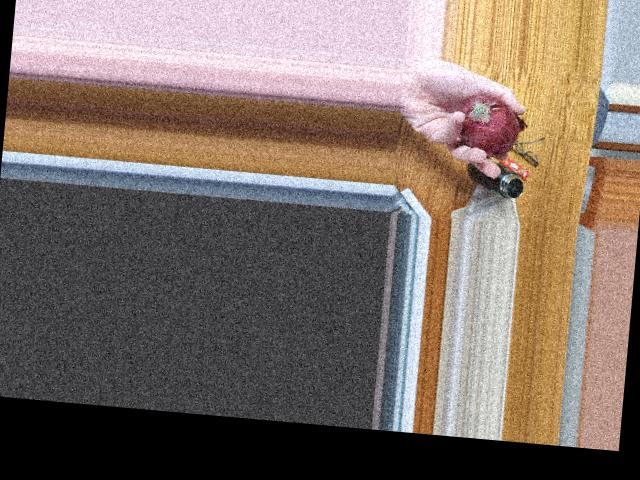onion: (456, 95, 521, 153)
